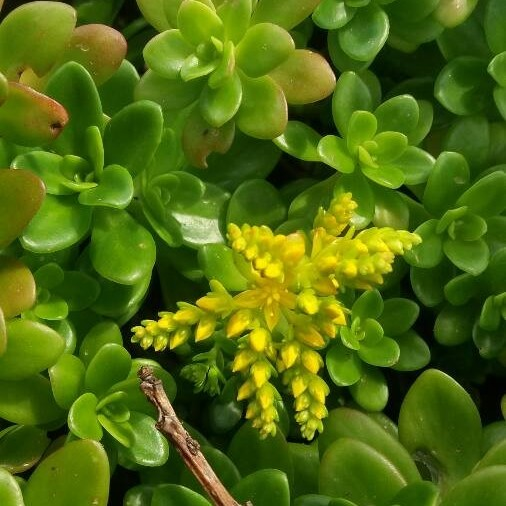obstacle: (30, 59, 434, 426)
